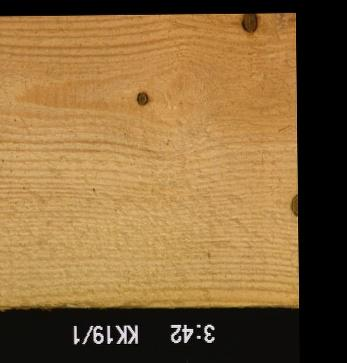dry_knot: (134, 90, 148, 105), (289, 190, 296, 217)
edge_knot: (239, 11, 258, 33)
